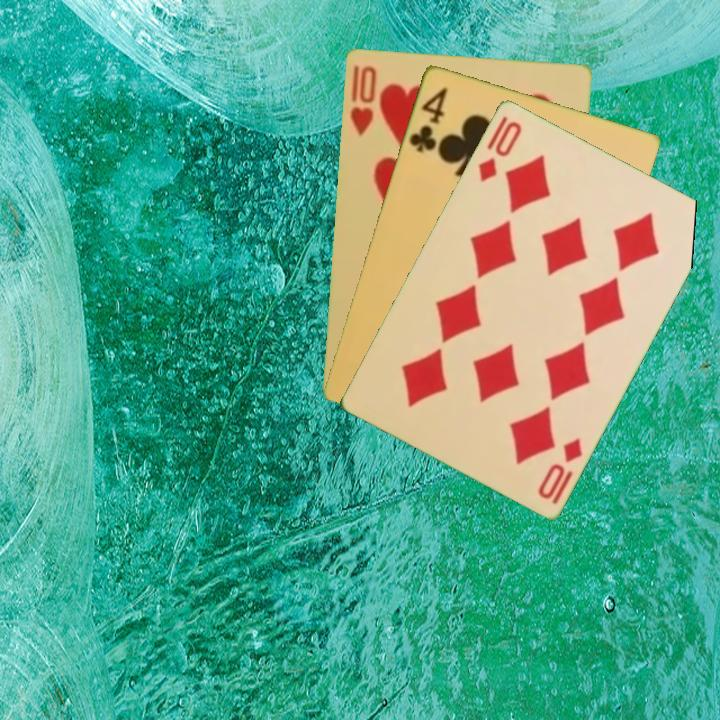10d: (534, 433, 585, 507), (474, 112, 525, 185)
10h: (346, 61, 379, 138)
4c: (405, 83, 450, 155)
